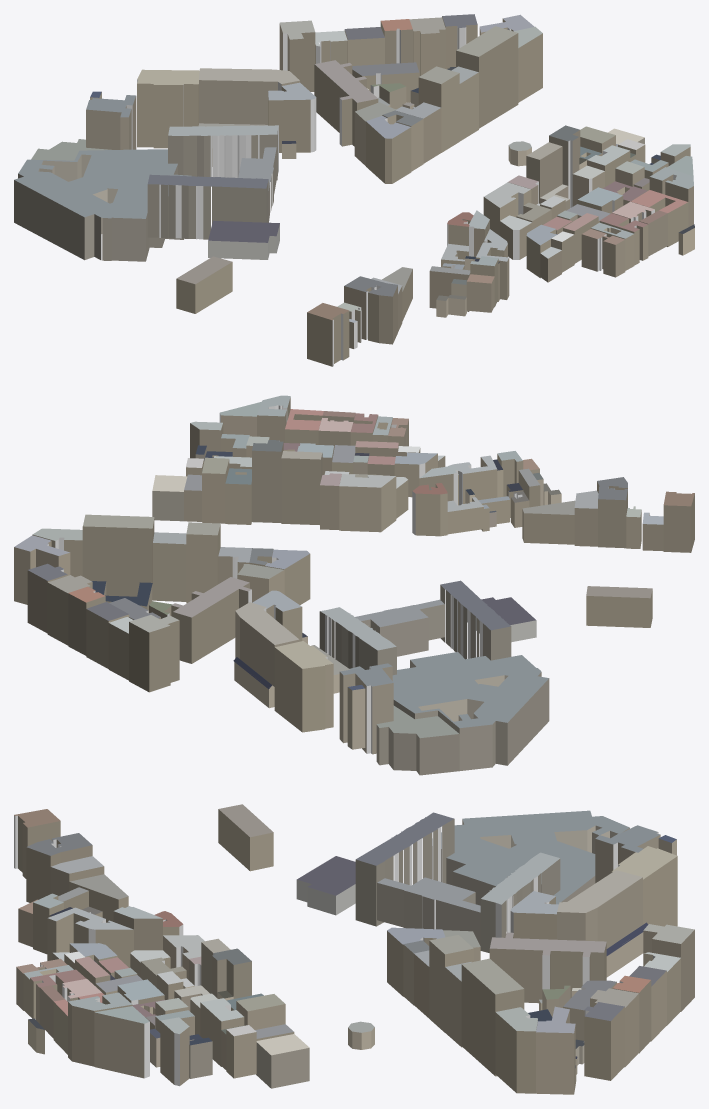
The picture shows the model from 3 angles, top to bottom: view 1: azimuth 30°, elevation 25°; view 2: azimuth 150°, elevation 25°; view 3: azimuth 270°, elevation 25°; orthographic projection. The views are drawn at different scales.
Visible parts, largest first — view 1: tuile; view 2: tuile; view 3: tuile.
Boxes of the visible parts, box(x1,y1,x2,y2) form: tuile: box(14, 14, 694, 366); tuile: box(14, 395, 694, 775); tuile: box(14, 804, 694, 1094).
Bounding box in the file's own units: 256 × 52.53 × 265.
